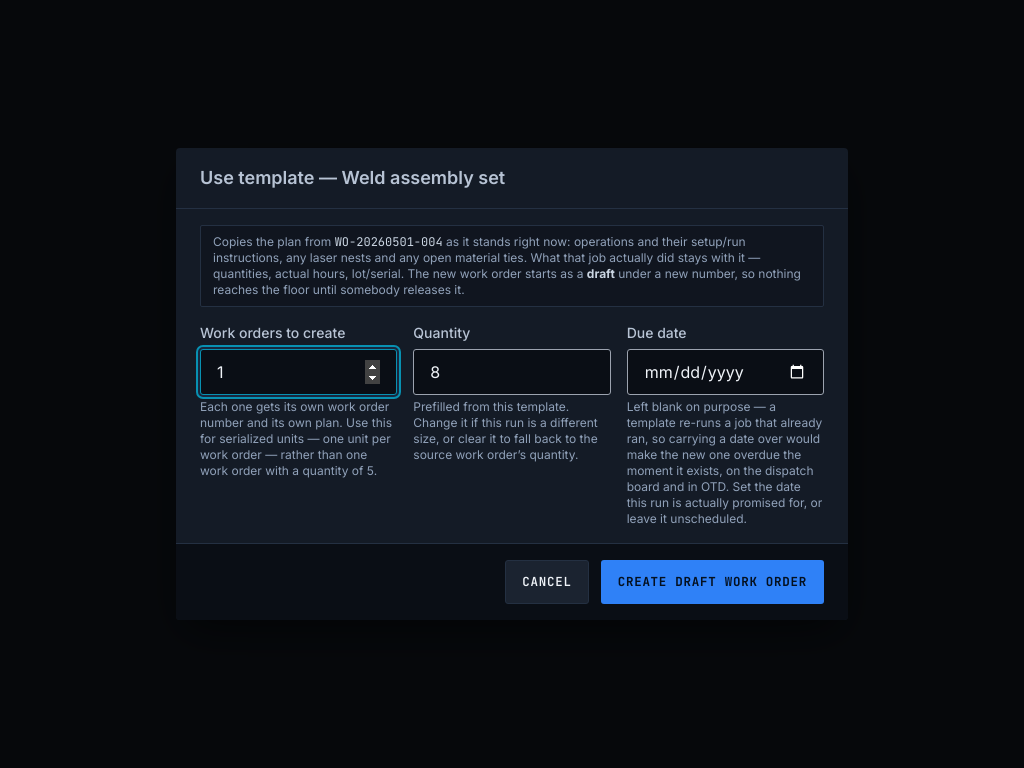
Scenario: UseTemplateModal: how many work orders › raises to five, rewrites an untouched quantity prefill to 1, and states the total
The image size is (1024, 768).
expect the number field labelled "Quantity" holds "8": met, box [413, 349, 611, 395]
Replace the text in the number field labelled "Work orders to create" with "5": (299, 372) [200, 349, 397, 395]
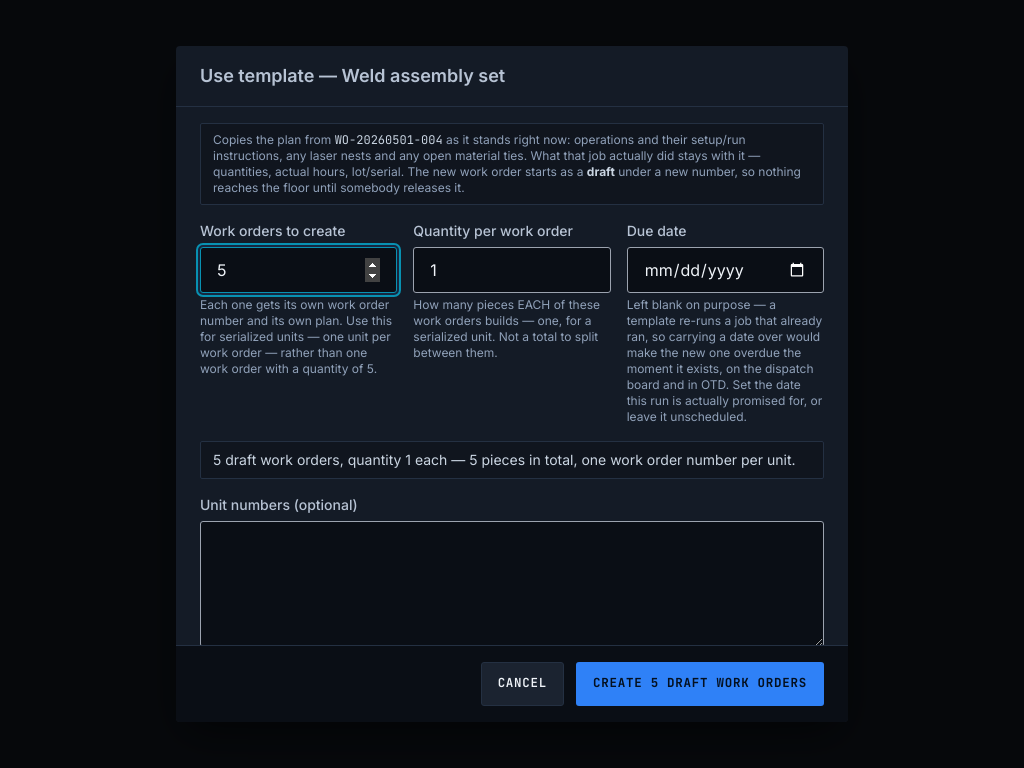
expect the number field labelled "Quantity per work order" holds "1": met, box [413, 247, 611, 293]
expect the text with test id "use-template-batch-total" shows "5 draft work orders, quantity 1 each — 5 pieces in total, one work order number per unit.": met, box [213, 451, 796, 468]
expect the text "Quantity per work order" is shown: met, box [413, 222, 573, 239]
